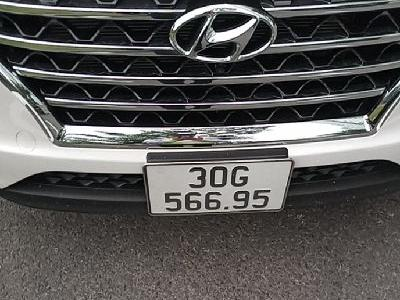lisence: (143, 159, 295, 216)
